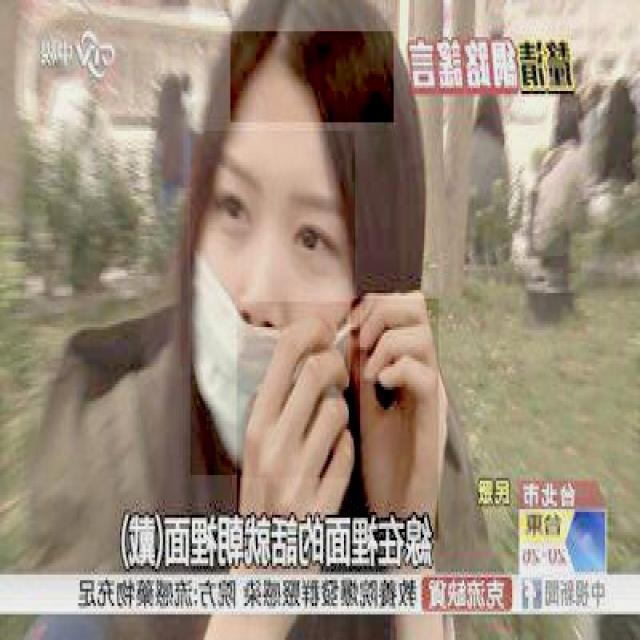face_mask: (189, 131, 355, 478)
hand_noglove: (235, 302, 360, 520), (349, 299, 438, 543)
head_nohelmet: (228, 31, 394, 125)
